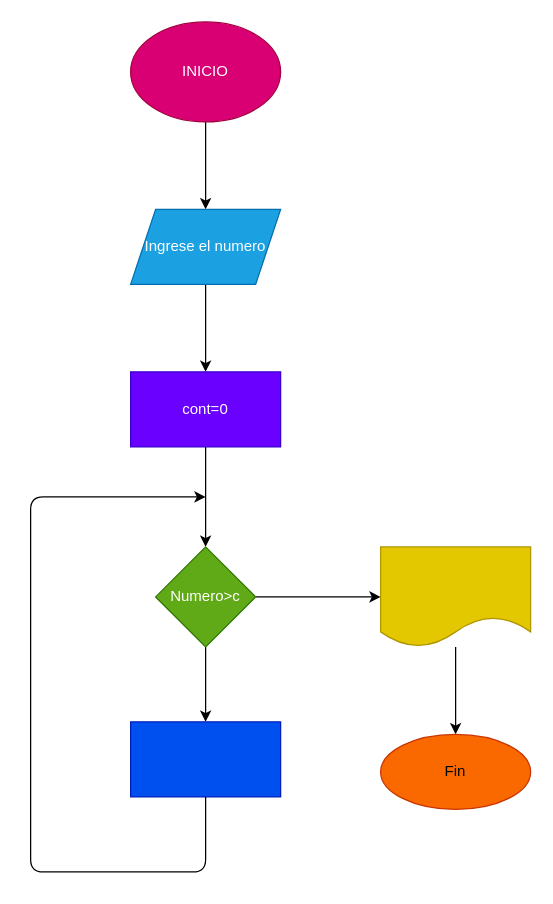
Image size: 553x904. Some labels were removed from this diagram. The shapes that lost their labels are listed below. From the top down, each one's box as (x1, y1, x2, y2) in pixels, then its label:
(379, 546, 531, 647): El numero tiene N digitos
(129, 721, 281, 797): Numero=Numero/10
